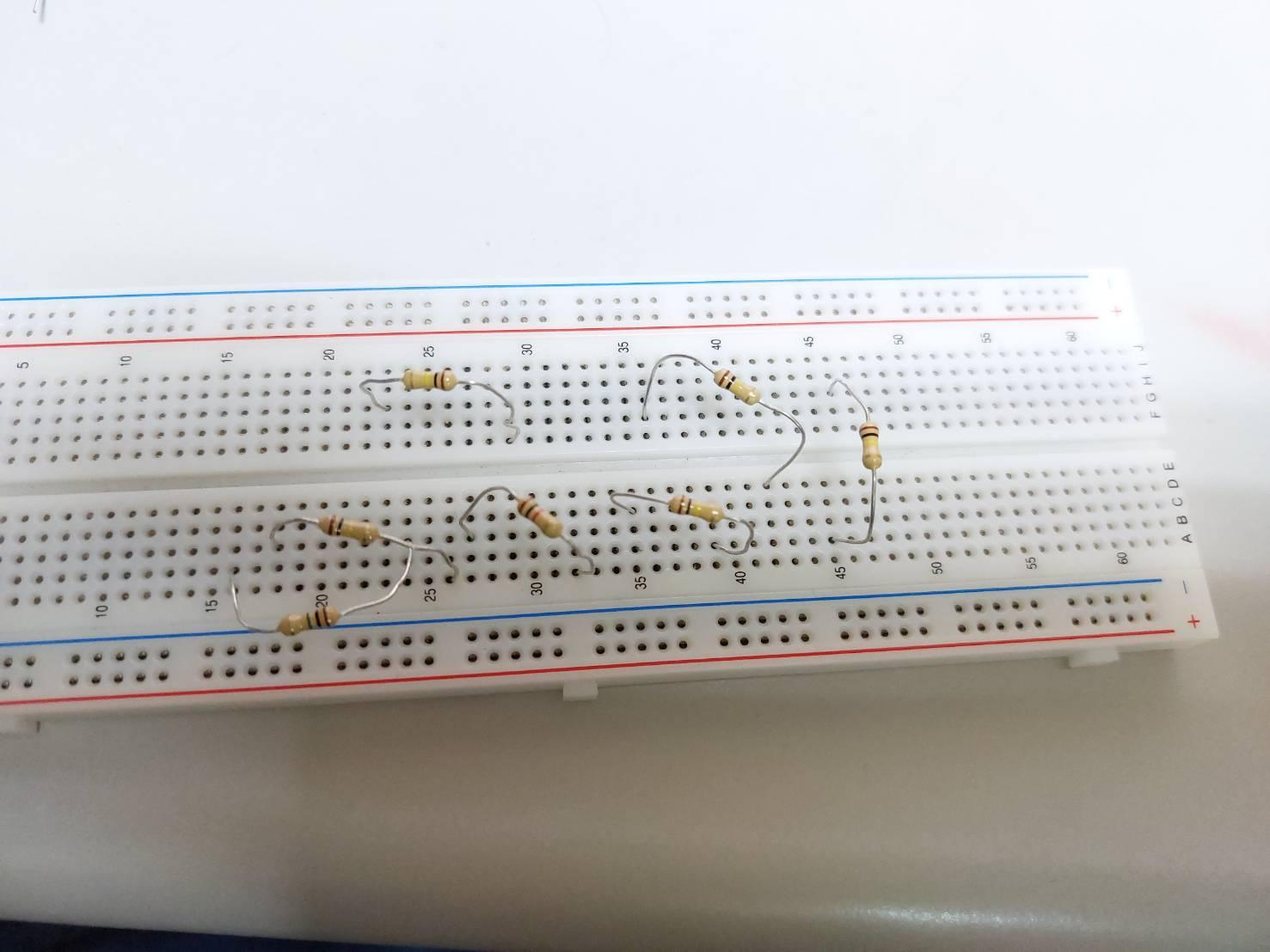resistor: (517, 494, 562, 537), (275, 607, 341, 636), (319, 514, 379, 545), (714, 367, 761, 404), (668, 494, 725, 523), (860, 420, 883, 472), (403, 370, 454, 390)
